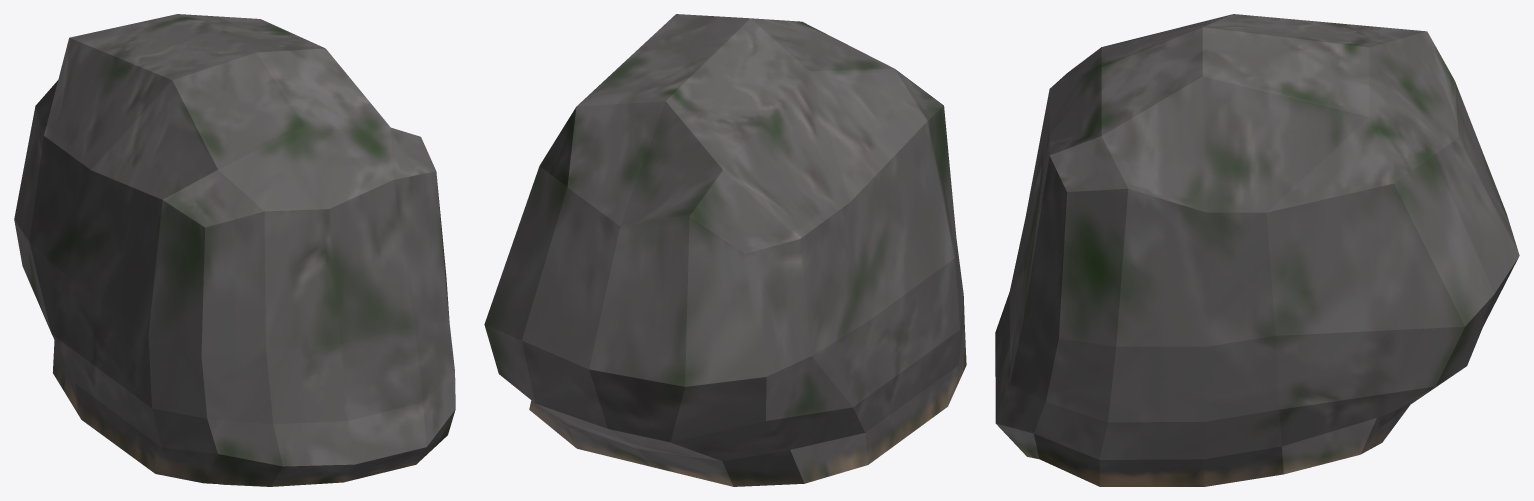
Rendered from MKU_rock_medium_fin.fbx.
The picture shows the model from 3 angles, left to right: view 1: azimuth 30°, elevation 25°; view 2: azimuth 150°, elevation 25°; view 3: azimuth 270°, elevation 25°; orthographic projection. The views are drawn at different scales.
Parts seen in each view (by area): view 1: Cube; view 2: Cube; view 3: Cube.
Part boxes in pixels (<box>): Cube: <box>14,14,455,486</box>; Cube: <box>484,14,966,486</box>; Cube: <box>995,14,1519,486</box>.
Size of the model in its own units: 312 by 374 by 447.
